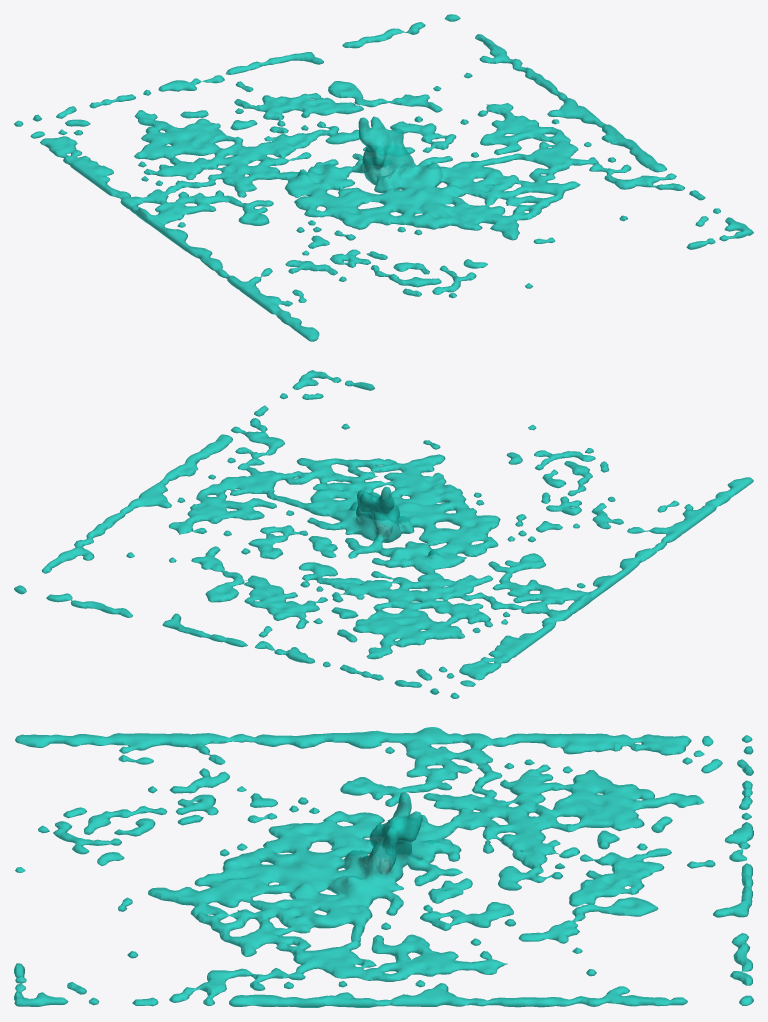
The picture shows the model from 3 angles, top to bottom: view 1: azimuth 30°, elevation 25°; view 2: azimuth 150°, elevation 25°; view 3: azimuth 270°, elevation 25°; orthographic projection. The views are drawn at different scales.
Parts seen in each view (by area): view 1: Liquid_Domain; view 2: Liquid_Domain; view 3: Liquid_Domain.
Part boxes in pixels (x1,y1,x2,y2): Liquid_Domain: [14, 14, 753, 341]; Liquid_Domain: [14, 370, 753, 698]; Liquid_Domain: [14, 727, 753, 1007].
Bounding box in the file's own units: 12.44 × 1.6 × 14.41.
